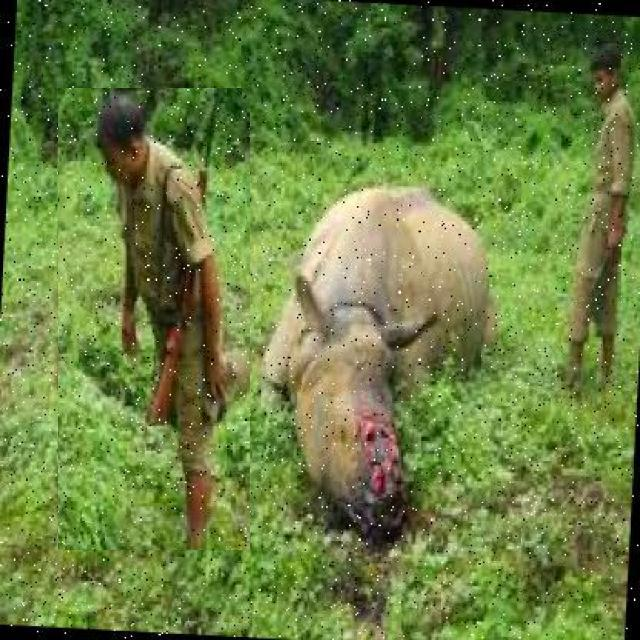p_collect: (258, 176, 500, 530)
p_export: (18, 16, 640, 596)
poacher: (58, 88, 250, 550), (551, 40, 640, 417)
weapon: (44, 48, 168, 417)
